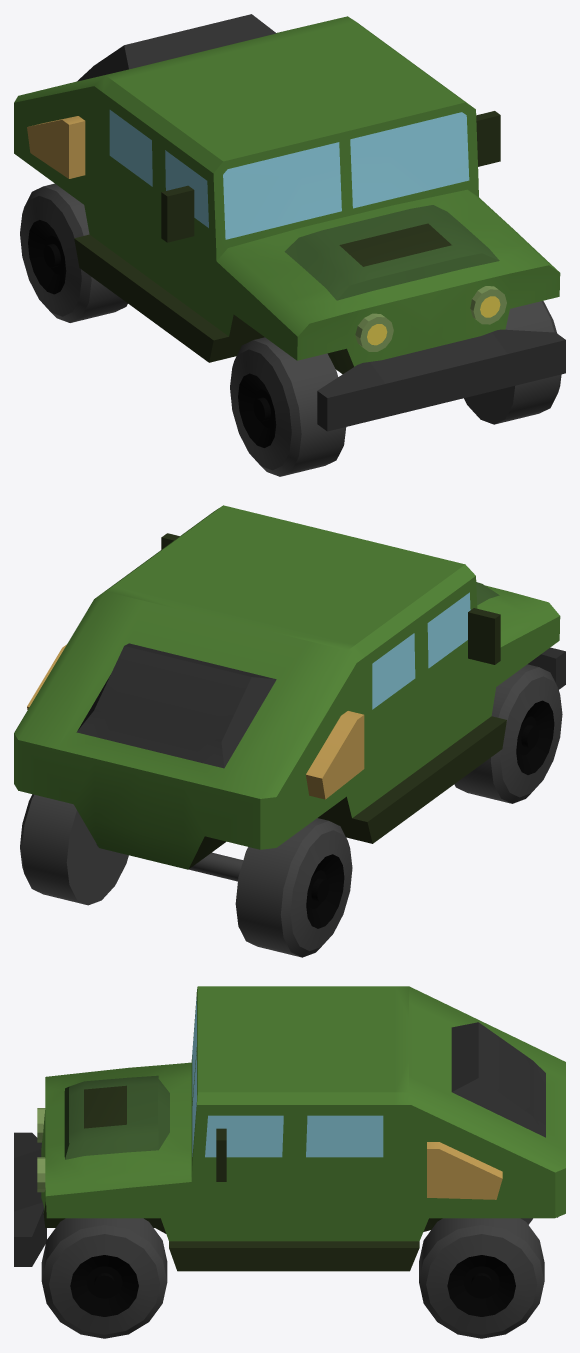
The model's file is Jeep 1.fbx.
3 views of the same model, one above another, from view 1: azimuth 30°, elevation 25°; view 2: azimuth 150°, elevation 25°; view 3: azimuth 270°, elevation 25° (orthographic). The views are drawn at different scales.
Parts seen in each view (by area): view 1: Cube.406, Cube.407, Cylinder.616, Cylinder.617, Cylinder.606, Cube.531, Cube.408, Cylinder.452; view 2: Cube.406, Cylinder.617, Cylinder.616, Cylinder.605, Cube.408, Cube.531, Cube.407; view 3: Cube.406, Cylinder.606, Cylinder.605, Cube.407, Cube.408, Cube.531, Cylinder.452.
Part boxes in pixels (left/top/right/bottom): Cube.406: left=14, top=14, right=560, bottom=374; Cube.407: left=317, top=329, right=565, bottom=431; Cylinder.616: left=230, top=337, right=346, bottom=476; Cylinder.617: left=20, top=183, right=127, bottom=322; Cylinder.606: left=464, top=301, right=561, bottom=424; Cube.531: left=161, top=111, right=500, bottom=242; Cube.408: left=27, top=116, right=85, bottom=178; Cylinder.452: left=355, top=286, right=506, bottom=351; Cube.406: left=14, top=505, right=560, bottom=869; Cylinder.617: left=189, top=818, right=352, bottom=957; Cylinder.616: left=454, top=664, right=562, bottom=803; Cylinder.605: left=20, top=794, right=128, bottom=905; Cube.408: left=27, top=644, right=364, bottom=799; Cube.531: left=161, top=533, right=500, bottom=664; Cube.407: left=528, top=647, right=565, bottom=689; Cube.406: left=41, top=986, right=565, bottom=1271; Cylinder.606: left=41, top=1218, right=167, bottom=1338; Cylinder.605: left=419, top=1218, right=544, bottom=1338; Cube.407: left=14, top=1132, right=46, bottom=1266; Cube.408: left=427, top=1142, right=502, bottom=1199; Cube.531: left=216, top=1128, right=226, bottom=1181; Cylinder.452: left=37, top=1108, right=45, bottom=1192.
Bounding box in the file's own units: 668 × 517 × 1066.
